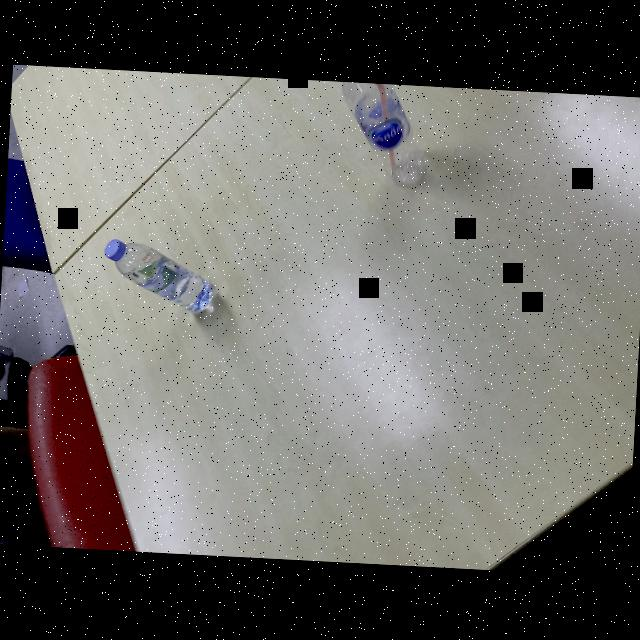plastic_bottle: (336, 81, 430, 189), (99, 237, 219, 316)
plastic_bottle_cap: (105, 238, 126, 260)
straw: (371, 83, 402, 175)
